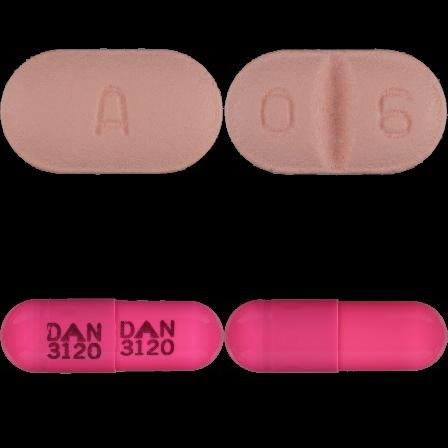55700-356: (0, 0, 224, 224)
